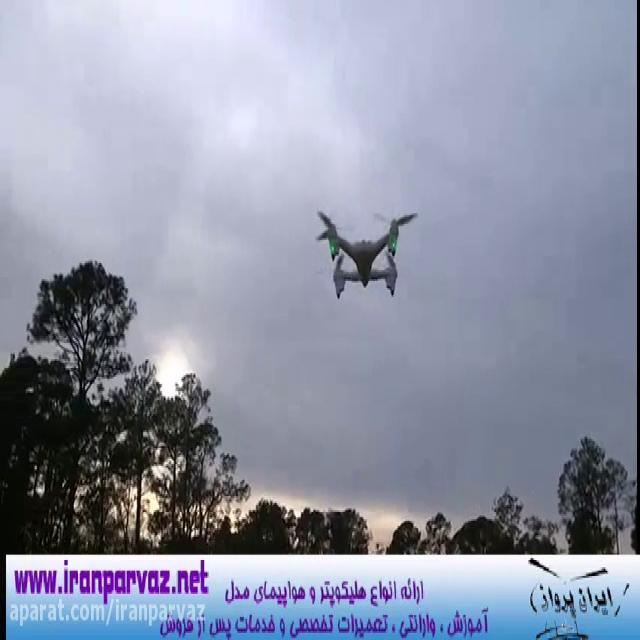drone: (310, 197, 421, 304)
